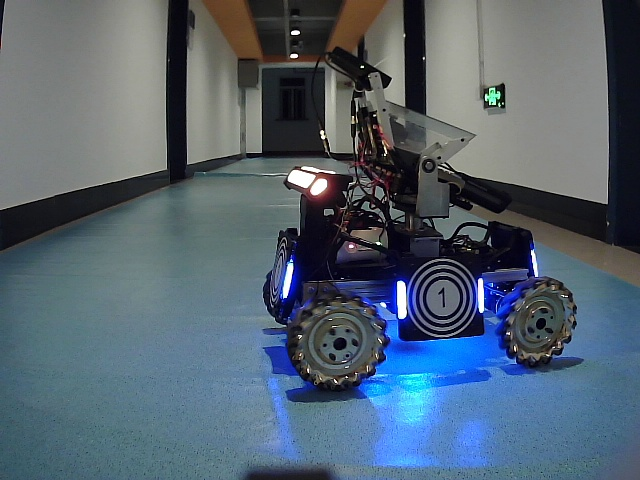lamp: (474, 277, 490, 317), (394, 279, 409, 320), (281, 257, 294, 300), (529, 250, 541, 280)
pair: (396, 280, 484, 313)
